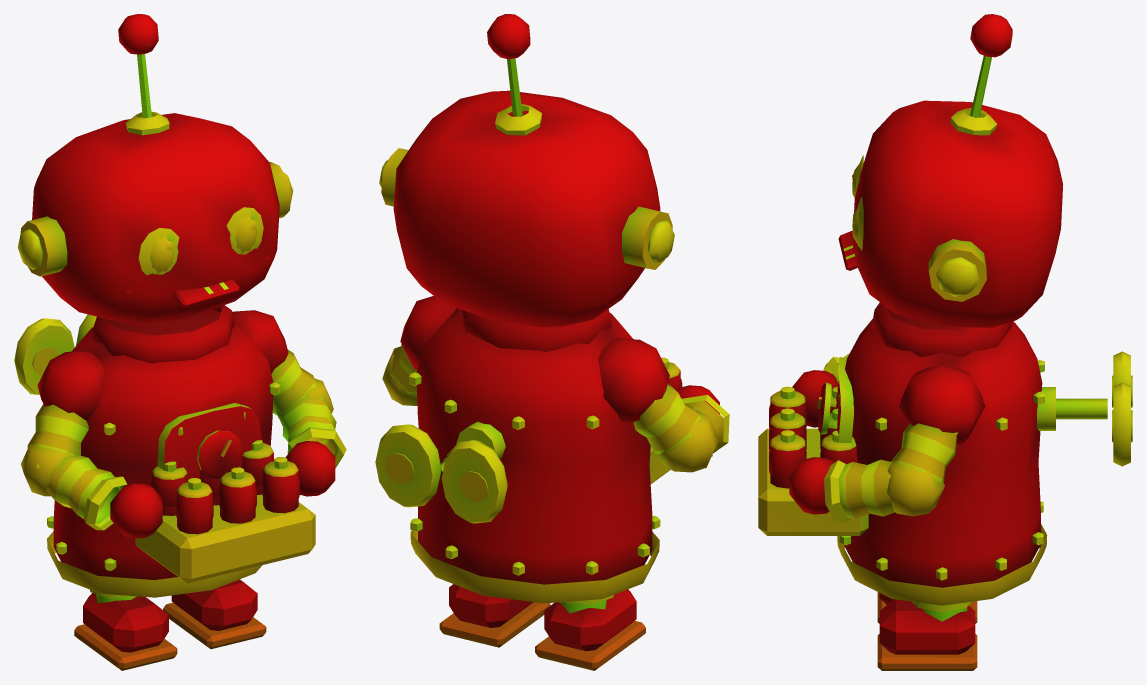
The model's file is RobotWorker_carry_food.glb.
3 views of the same model, side by side, from view 1: azimuth 30°, elevation 25°; view 2: azimuth 150°, elevation 25°; view 3: azimuth 270°, elevation 25° (orthographic). The views are drawn at different scales.
Parts seen in each view (by area): view 1: RobotWorker_carry_food; view 2: RobotWorker_carry_food; view 3: RobotWorker_carry_food.
Boxes of the visible parts, x1=… form: RobotWorker_carry_food: x1=14, y1=14, x2=346, y2=670; RobotWorker_carry_food: x1=375, y1=14, x2=729, y2=670; RobotWorker_carry_food: x1=758, y1=14, x2=1132, y2=670.
Bounding box in the file's own units: 0.498 × 0.93 × 0.509.
